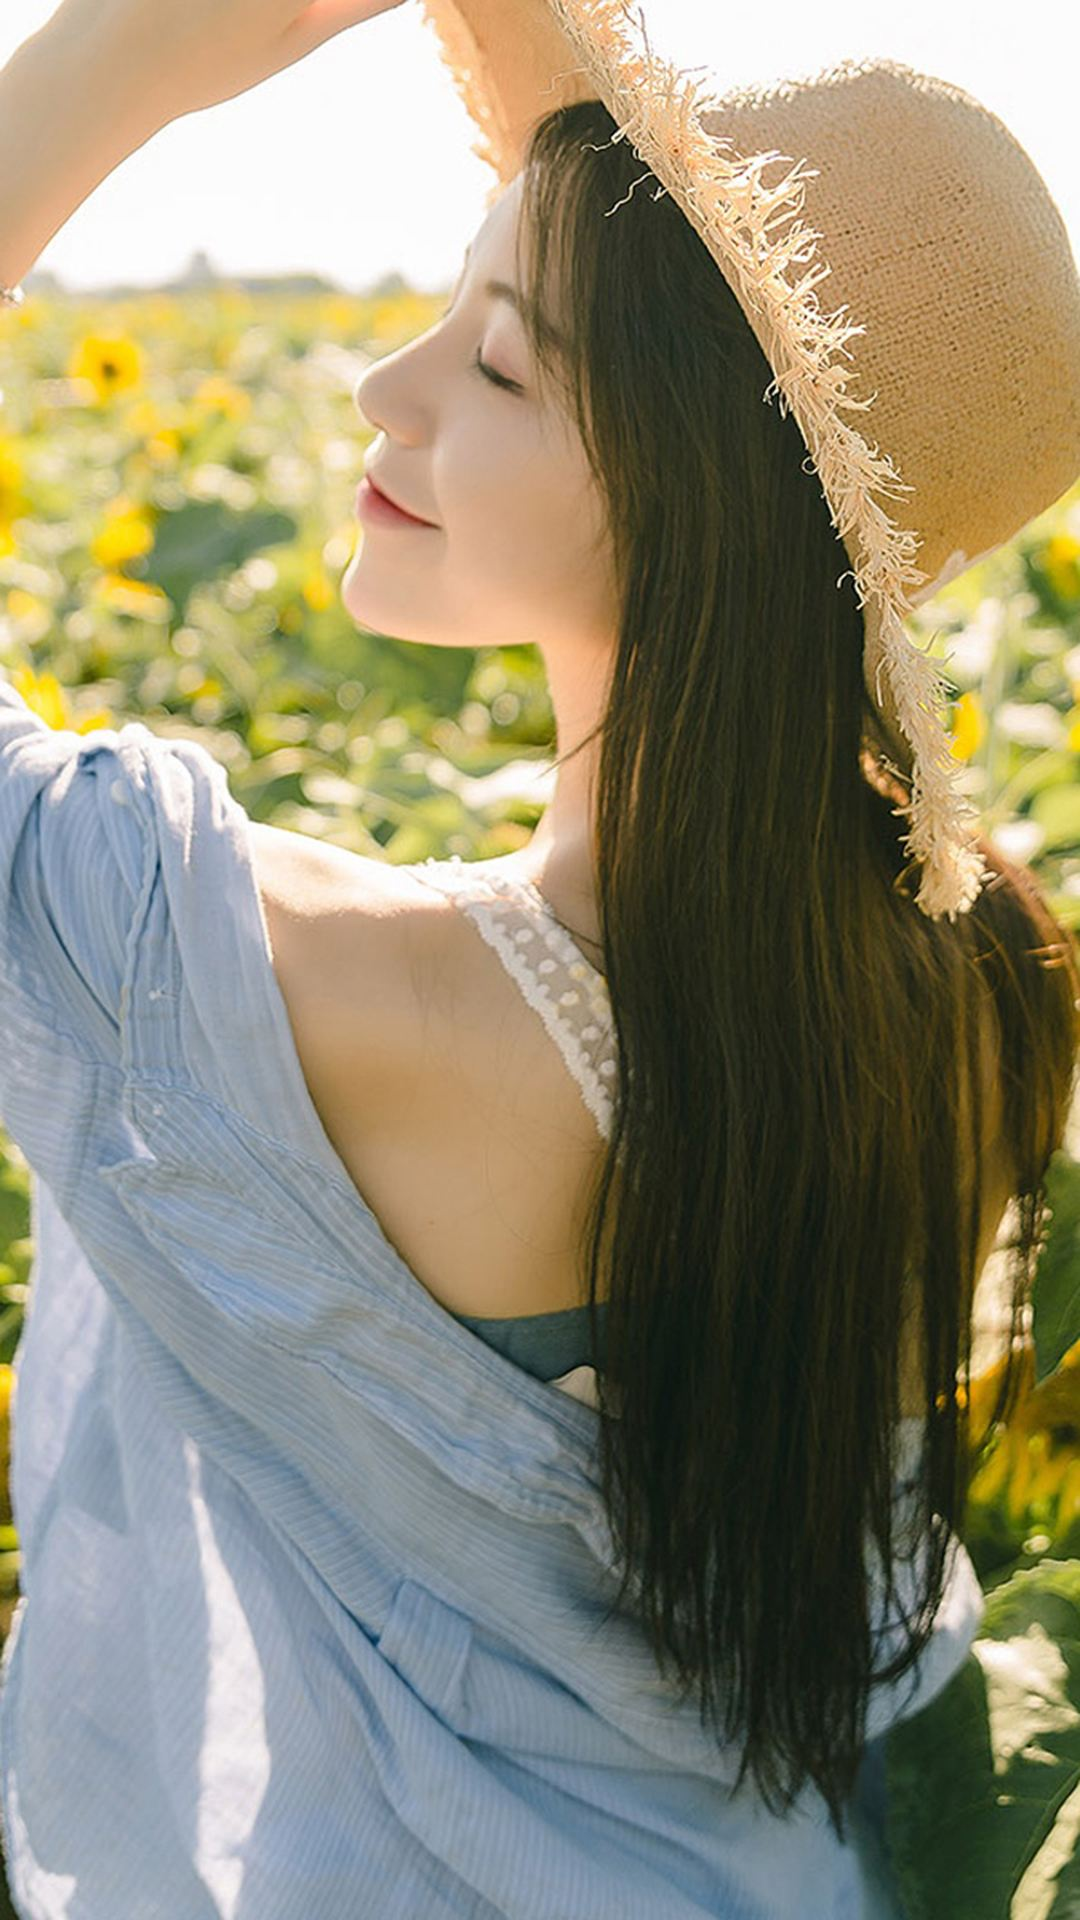person: (136, 47, 973, 1765)
